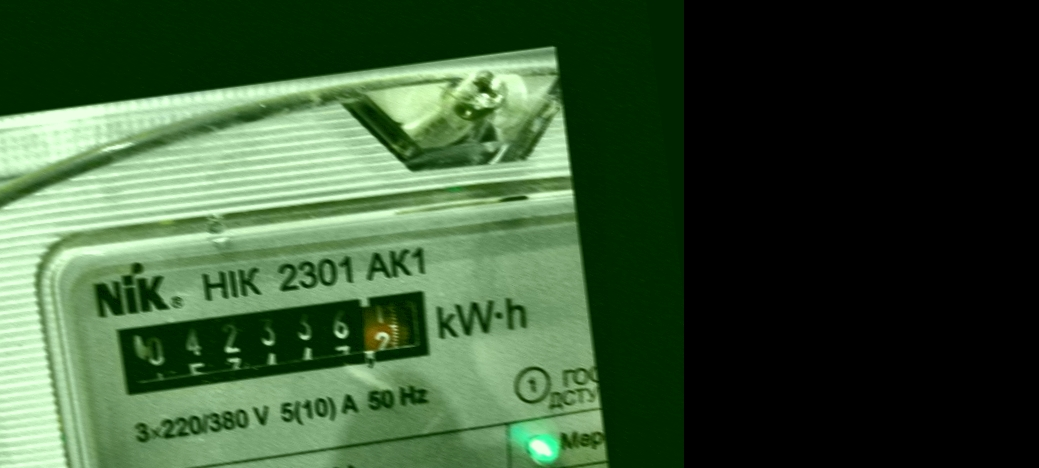0: (143, 333, 166, 368)
1: (370, 299, 385, 326)
2: (218, 319, 243, 356), (371, 329, 391, 352)
3: (254, 314, 276, 348), (293, 309, 314, 343)
4: (182, 324, 203, 358)
6: (328, 306, 352, 343)
screen: (102, 275, 446, 408)
